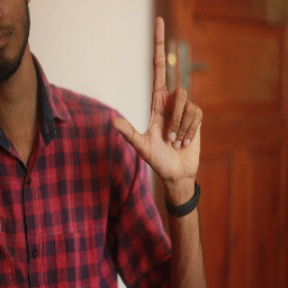L: (113, 17, 210, 175)
